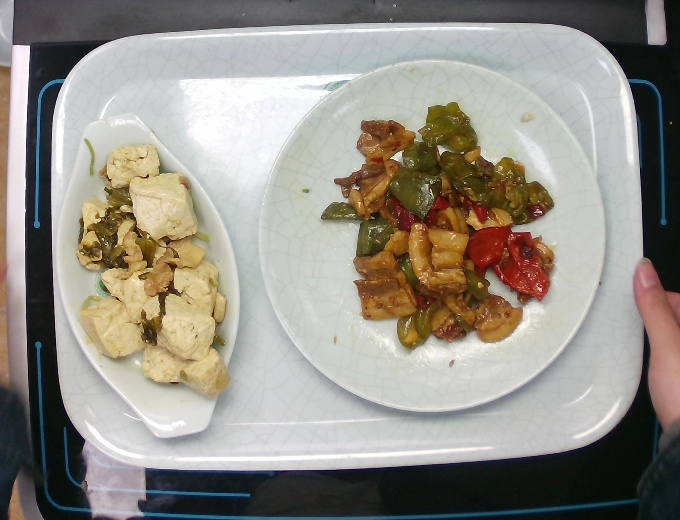JYsf-Da_Yuan_Pan: (247, 50, 617, 414)
JYsf-Yu_Pan: (55, 109, 245, 448)
